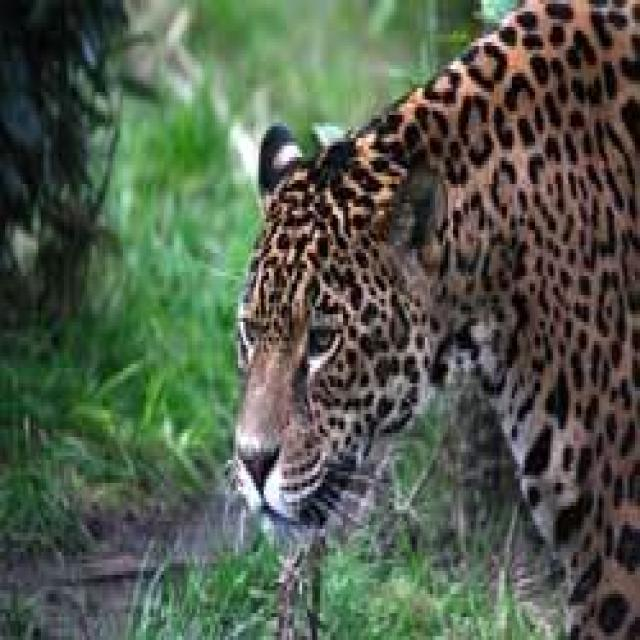Leopard: (225, 0, 634, 632)
